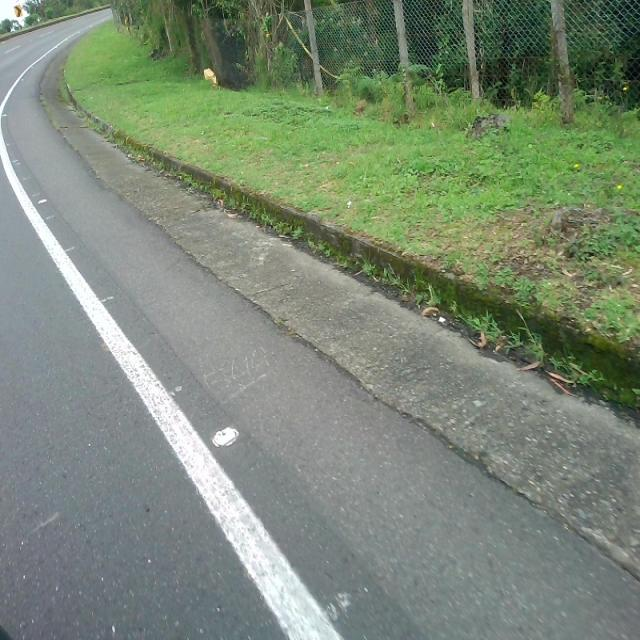DITCH: (37, 14, 638, 592)
